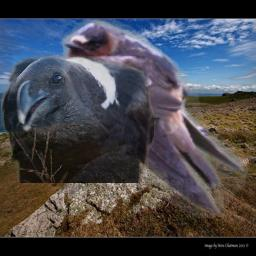Crow: (1, 55, 154, 183)
Swallow: (59, 19, 248, 218)
